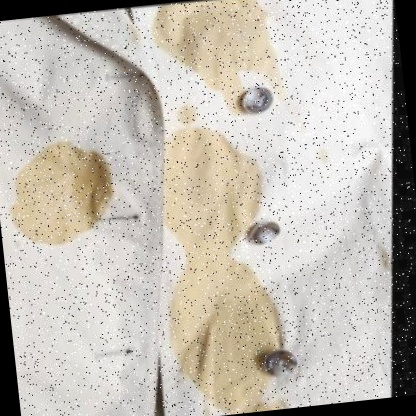coffee: (155, 132, 244, 255), (156, 0, 277, 80), (9, 149, 111, 243), (176, 261, 275, 357)
